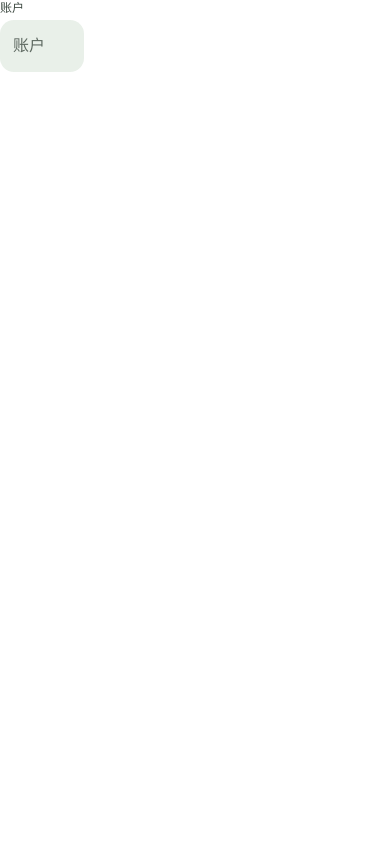
it: SourcePicker › an extra filter narrows the list further (card repayment target)
The image size is (390, 844).
Step 1. Click the button with test id "src-trigger" → [42, 46], box [0,20,84,72]
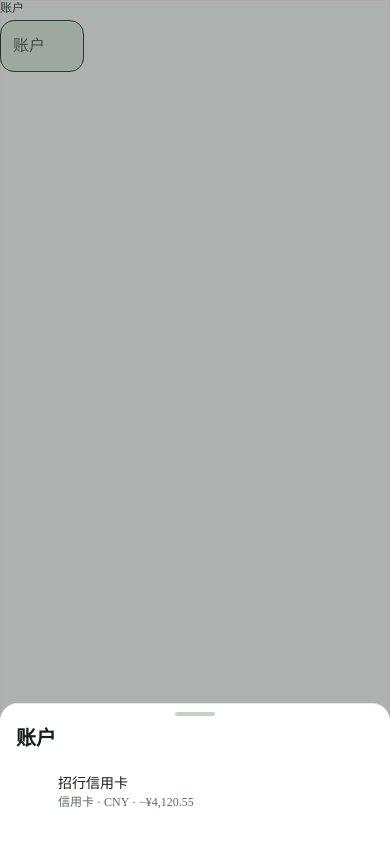
Expected: the menu item with test id "src-option-cccc" is shown, [58,776,194,809]
